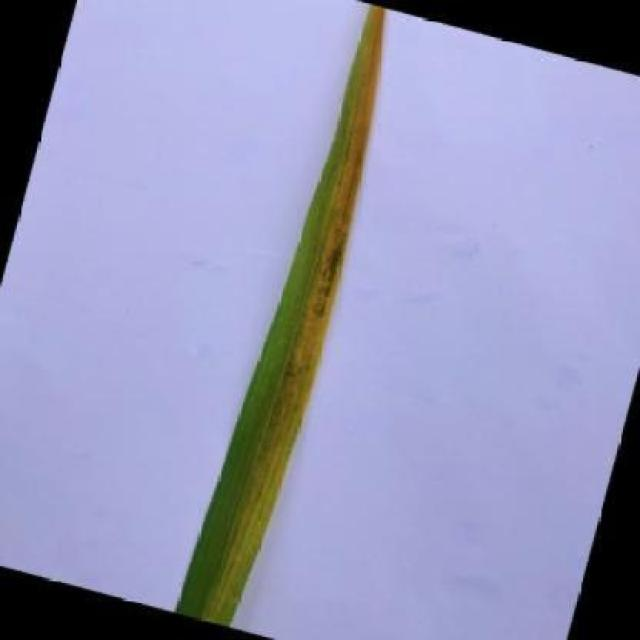Rice False Smut: (172, 0, 410, 631)
